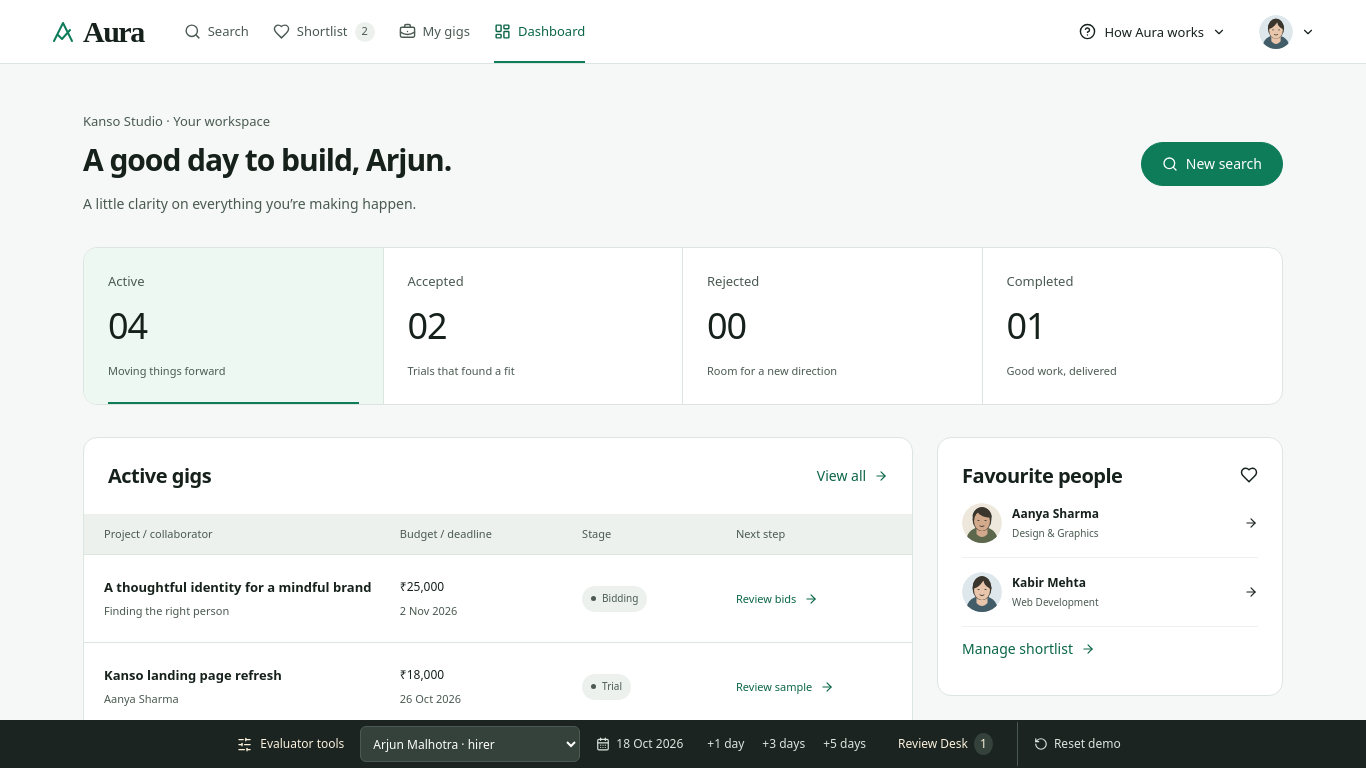
Test: routes and interactions › keeps reset behind a clear confirmation
This screenshot has width=1366, height=768.
Click the button "Reset demo" at [1073, 744], box [1017, 722, 1129, 766]
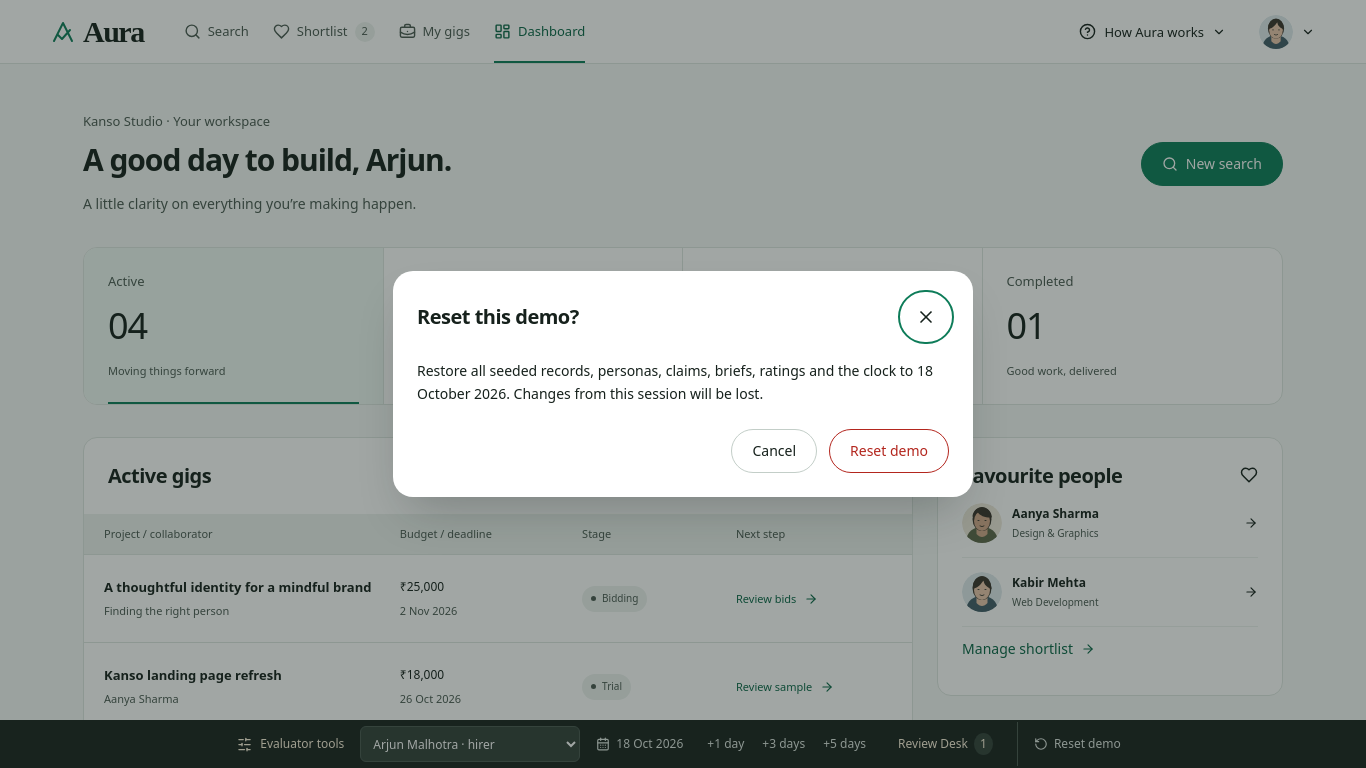
Check: the dialog "Reset this demo?" is shown, box [393, 271, 973, 497]
Click the button "Cancel" at [774, 451], box [731, 429, 817, 473]
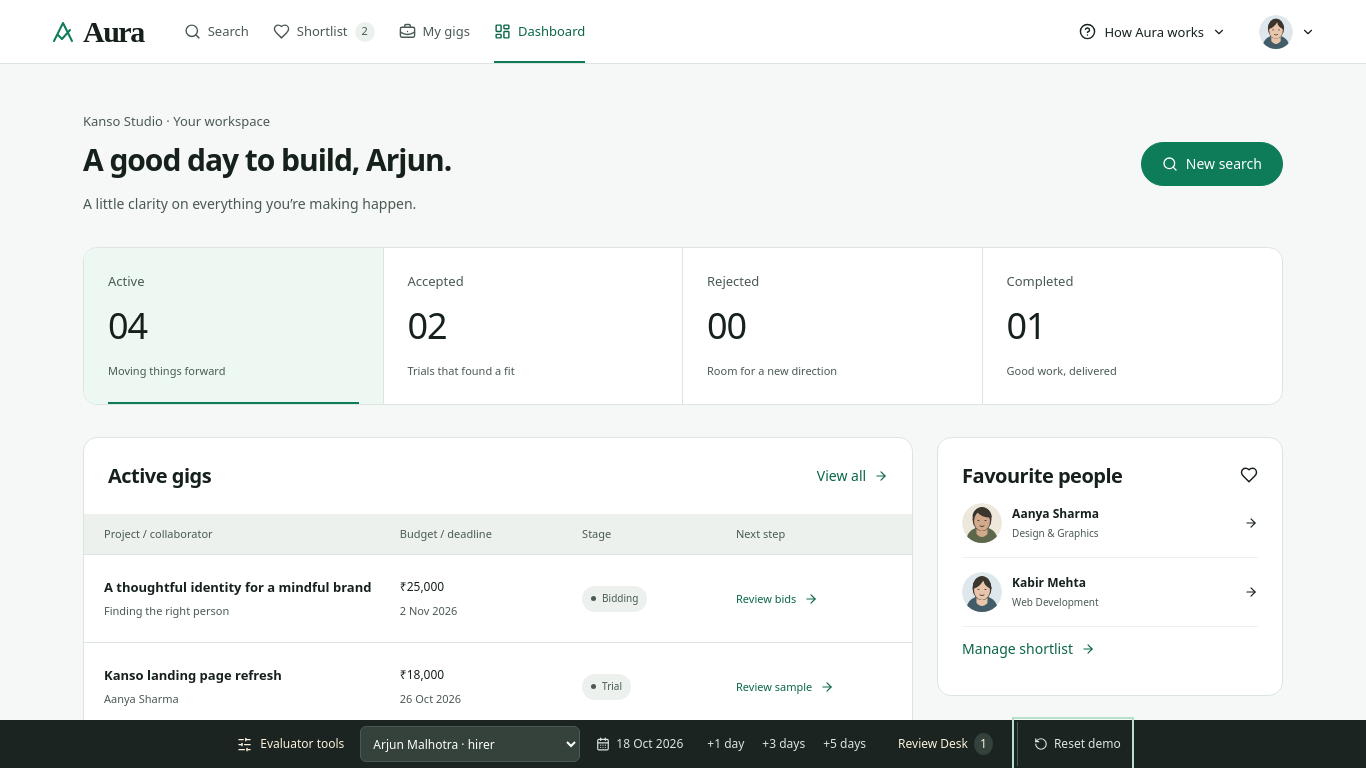
Check: the dialog is gone
